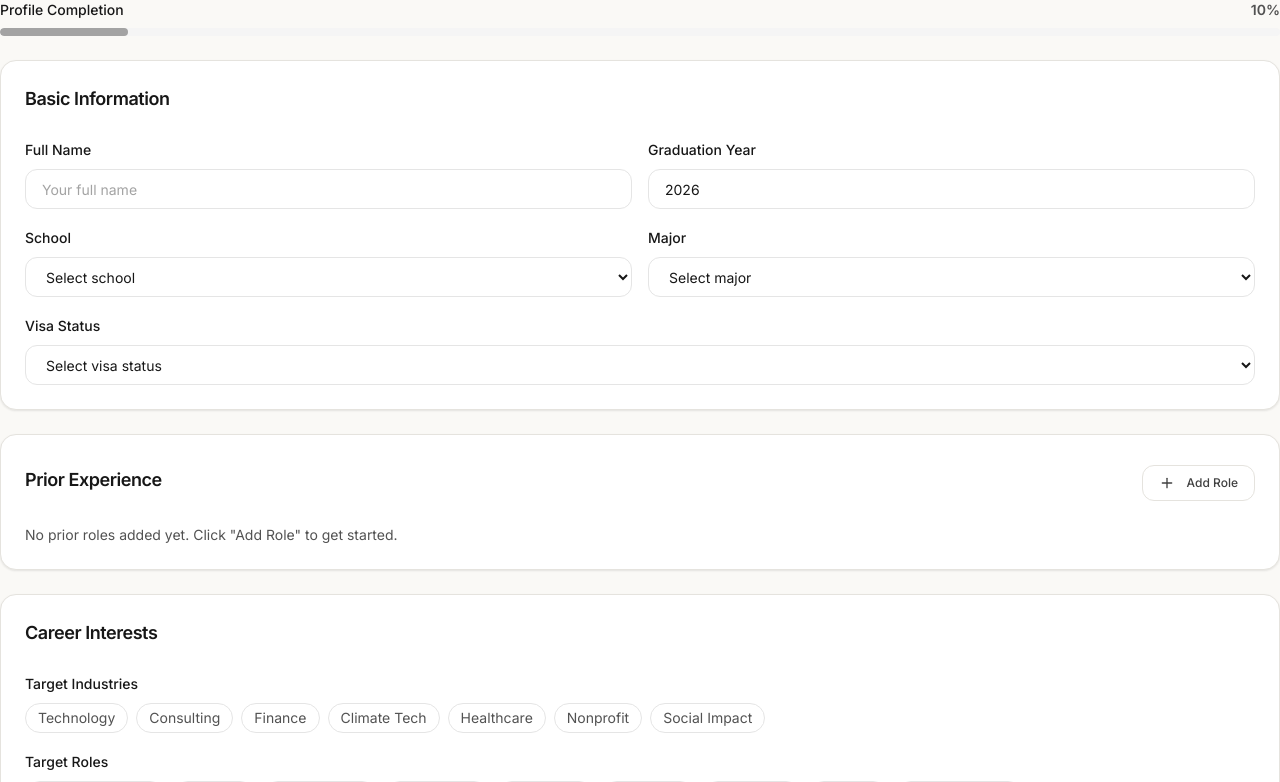
Scenario: ProfileForm › can add and remove prior roles
Expected: the text "No prior roles added yet. Click \"Add Role\" to get started." is shown, [25,526,398,543]
Click the button "Add Role" at (1198,483), box [1142,465,1255,501]
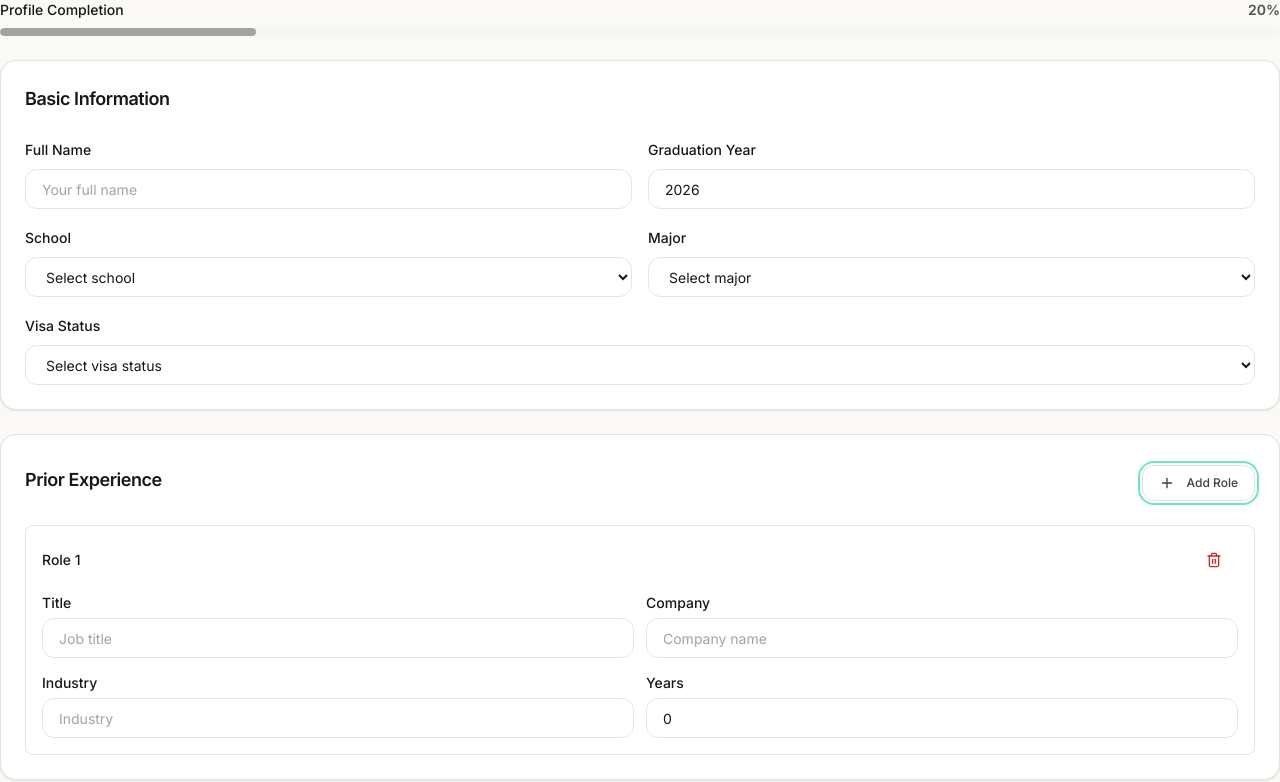
Now the text "Role 1" is shown, box [42,550,81,570]
Click the button named "Remove role 1" at (1214,560), box [1190,542,1238,578]
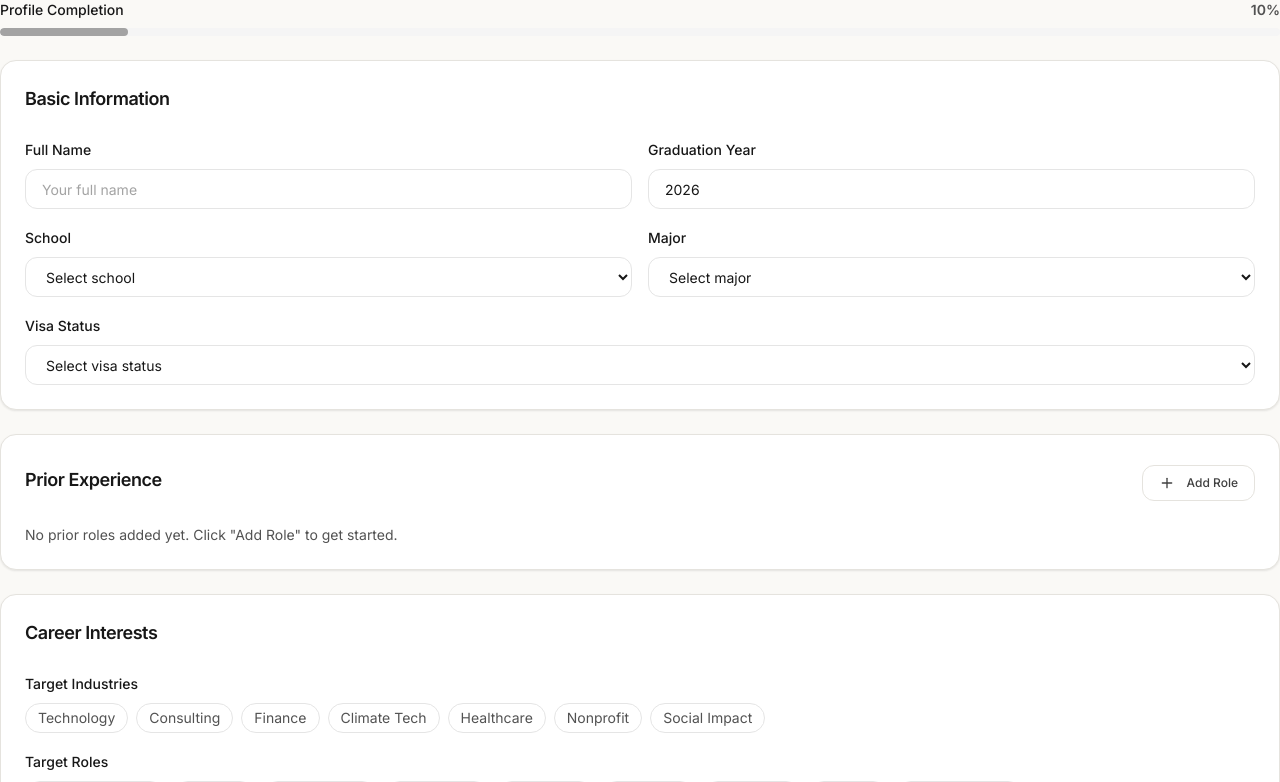
Now the text "No prior roles added yet. Click \"Add Role\" to get started." is shown, box [25,526,398,543]
